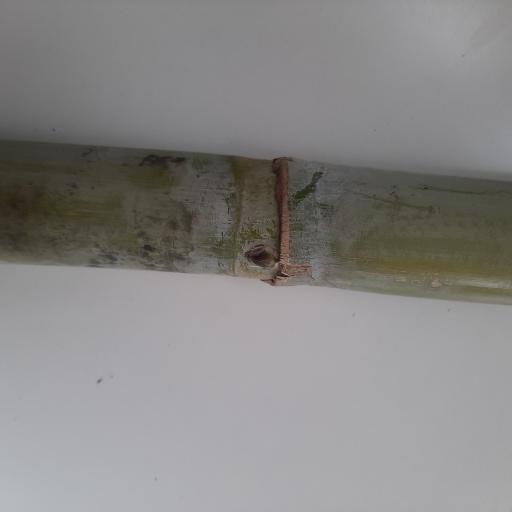Bud: (245, 244, 277, 271)
